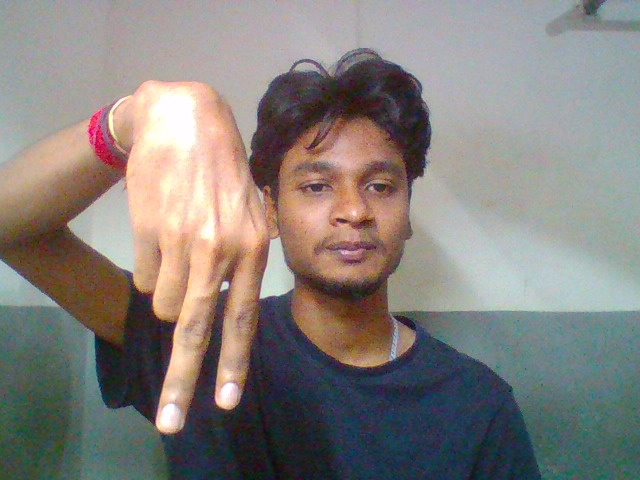N: (122, 79, 265, 447)
